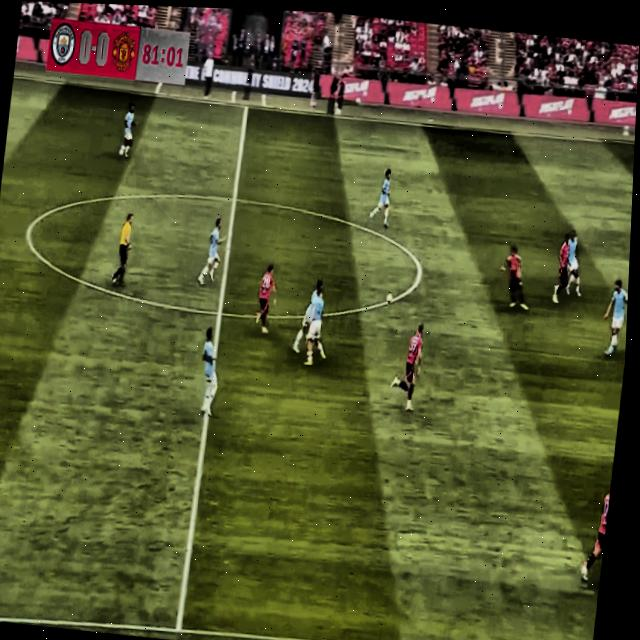ball: (381, 288, 397, 308)
players: (574, 473, 611, 584), (390, 319, 433, 411), (496, 234, 535, 315), (190, 326, 224, 418), (249, 255, 282, 345), (595, 275, 629, 361), (291, 272, 324, 356), (306, 284, 334, 370), (198, 214, 226, 295), (368, 158, 398, 230), (558, 230, 588, 301), (549, 231, 573, 307), (117, 100, 137, 166)
refree: (103, 207, 142, 301)
